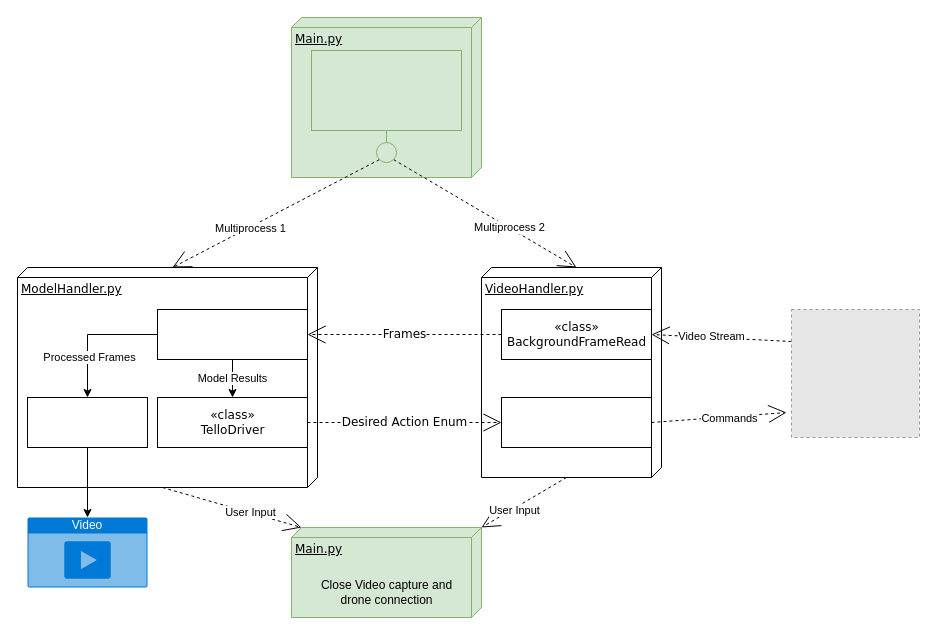
Image size: 937x635. Some labels were removed from this diagram. Grey dashed boxes stand in for pictures. Here are the shapes that lost their labels. From the top down, the centre of each, then its label:
(x=386, y=90): «Objects» Yolov7 Model Process1 Process2
(x=232, y=334): «class» ModelHandler
(x=87, y=422): «class» OpenCV videoCap
(x=576, y=422): «class» Controller
